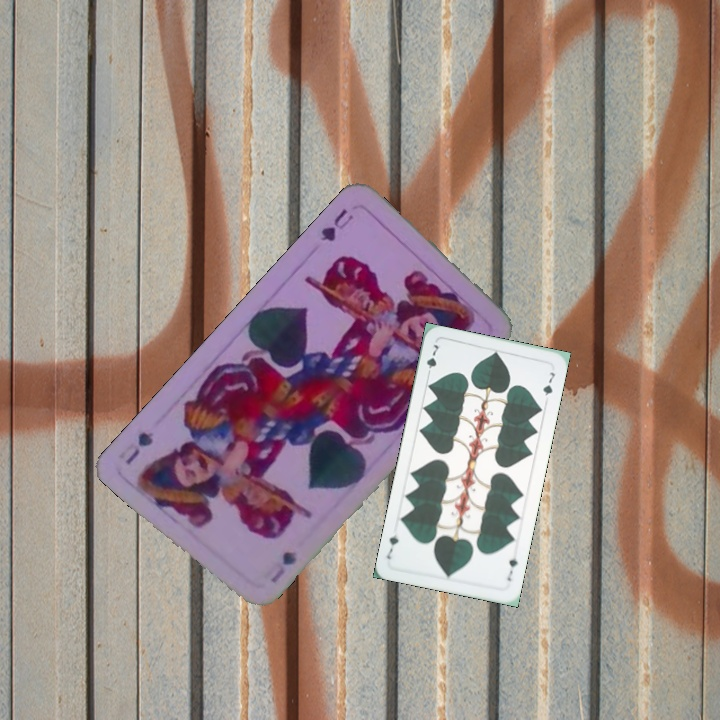G7: (422, 340, 441, 379), (503, 554, 521, 584)
GU: (316, 204, 357, 245), (266, 547, 300, 586)
